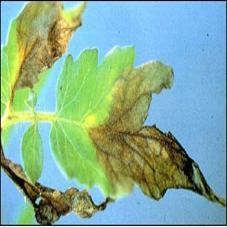Late Blight: (2, 1, 227, 227)
